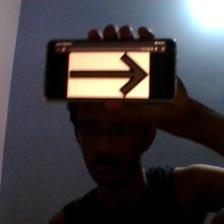right: (69, 54, 150, 99)
